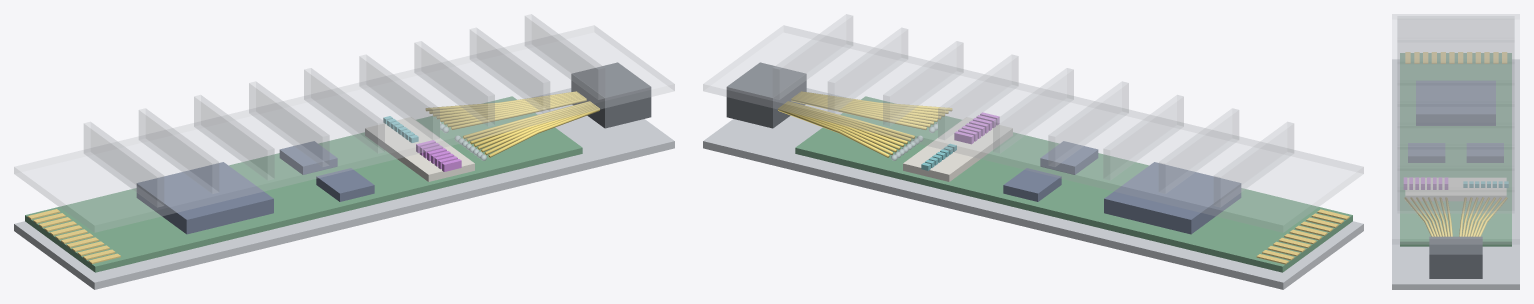
The model's file is transceiver.glb.
The picture shows the model from 3 angles, left to right: view 1: azimuth 30°, elevation 25°; view 2: azimuth 150°, elevation 25°; view 3: azimuth 270°, elevation 25°; orthographic projection. The views are drawn at different scales.
Visible parts, largest first — view 1: shell_top, pcb, shell_bottom, dsp, mpo, fin_6, fin_3, fin_4, fin_2, fin_5, fin_1, fin_0 (+7 smaller); view 2: shell_top, pcb, shell_bottom, dsp, mpo, fin_6, fin_3, fin_4, fin_2, fin_5, fin_1, fin_0 (+7 smaller); view 3: shell_top, pcb, shell_bottom, dsp, fin_8, fin_0, fin_3, fin_5, fin_1, fin_2, fin_4, fin_6 (+21 smaller).
Part boxes in pixels (x1,y1,x2,y2): shell_top: (14,25,674,232); pcb: (25,96,582,272); shell_bottom: (14,88,674,289); dsp: (136,162,273,234); mpo: (571,62,651,128); fin_6: (414,41,494,126); fin_3: (249,81,329,166); fin_4: (304,68,384,153); fin_2: (194,95,274,179); fin_5: (359,55,439,139); fin_1: (139,108,218,193); fin_0: (84,122,163,207); shell_top: (703,25,1363,232); pcb: (795,96,1352,272); shell_bottom: (703,88,1363,289); dsp: (1104,162,1241,234); mpo: (726,62,806,128); fin_6: (883,41,963,126); fin_3: (1048,81,1128,166); fin_4: (993,68,1073,153); fin_2: (1103,95,1183,179); fin_5: (938,55,1018,139); fin_1: (1159,108,1238,193); fin_0: (1214,122,1293,207); shell_top: (1392,14,1519,244); pcb: (1400,53,1511,246); shell_bottom: (1392,59,1519,289); dsp: (1416,80,1495,125); fin_8: (1397,187,1514,213); fin_0: (1397,16,1514,39); fin_3: (1397,80,1514,103); fin_5: (1397,123,1514,146); fin_1: (1397,37,1514,60); fin_2: (1397,59,1514,82); fin_4: (1397,101,1514,124); fin_6: (1397,144,1514,167).
Bounding box in the file's own units: 10 × 1.55 × 2.4.
